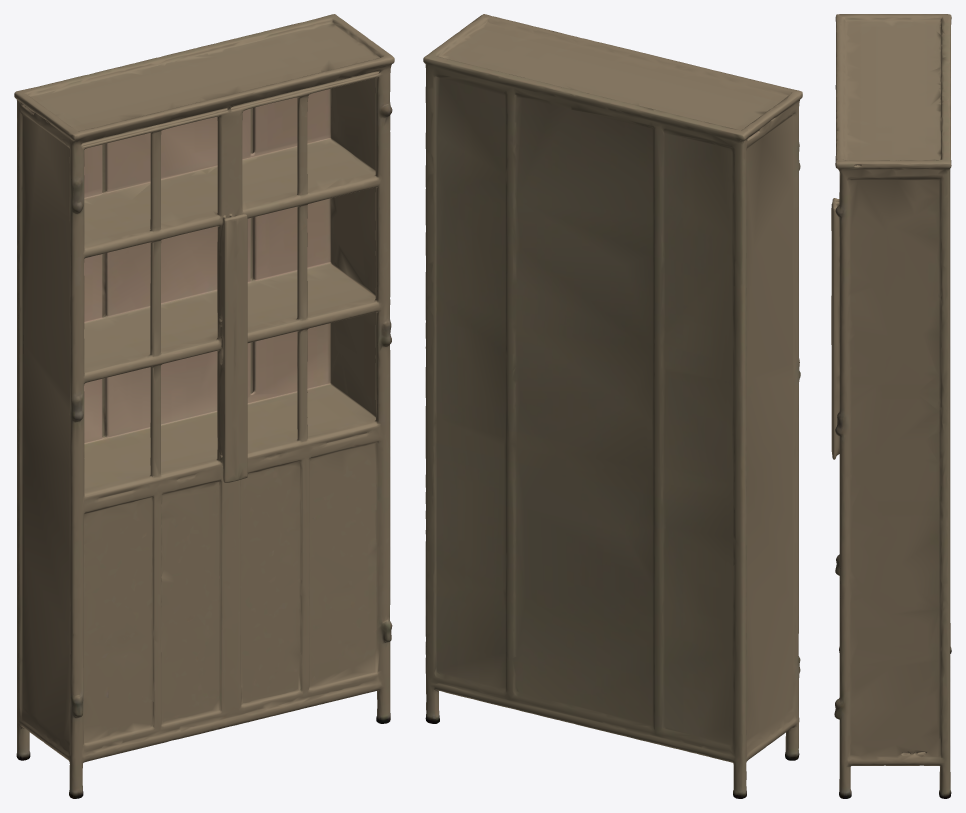
The model's file is sage-display-cabinet.glb.
The picture shows the model from 3 angles, left to right: view 1: azimuth 30°, elevation 25°; view 2: azimuth 150°, elevation 25°; view 3: azimuth 270°, elevation 25°; orthographic projection. The views are drawn at different scales.
Parts seen in each view (by area): view 1: world; view 2: world; view 3: world.
Boxes of the visible parts, x1,y1,x2,y2 form: world: (14,14,394,798); world: (423,14,802,798); world: (831,14,951,798).
Size of the model in its own units: 0.5074 by 1 by 0.1718.
1 material, 1 textured.
